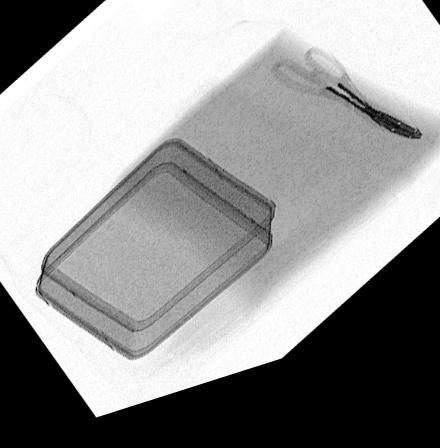Scissors: (265, 59, 425, 170)
